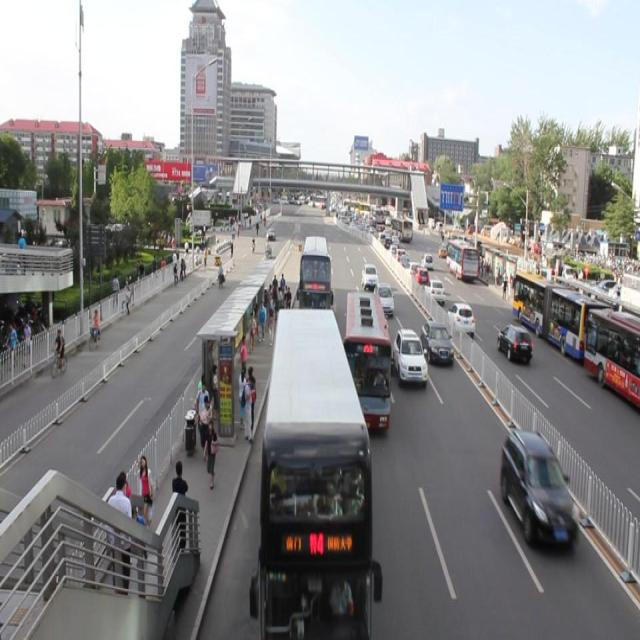car: (496, 426, 576, 557), (390, 325, 428, 386), (417, 315, 456, 368), (370, 280, 398, 316), (360, 260, 379, 292)
van: (247, 306, 386, 640), (338, 286, 397, 440), (295, 230, 337, 316)
